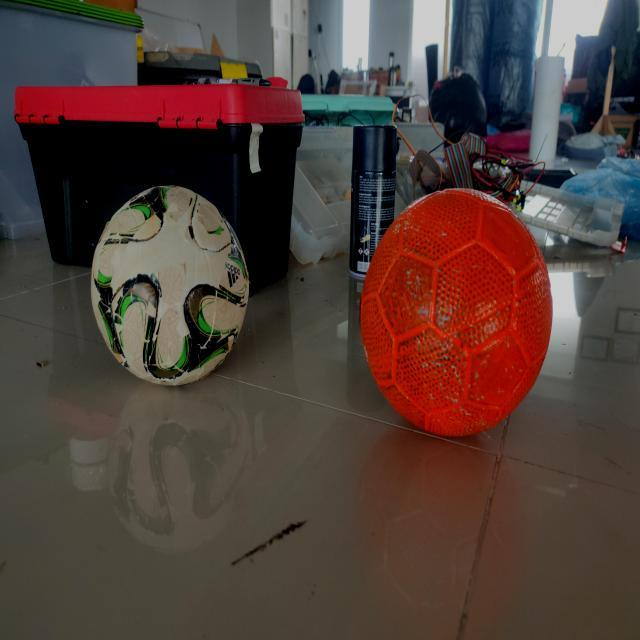bola: (353, 170, 560, 452)
